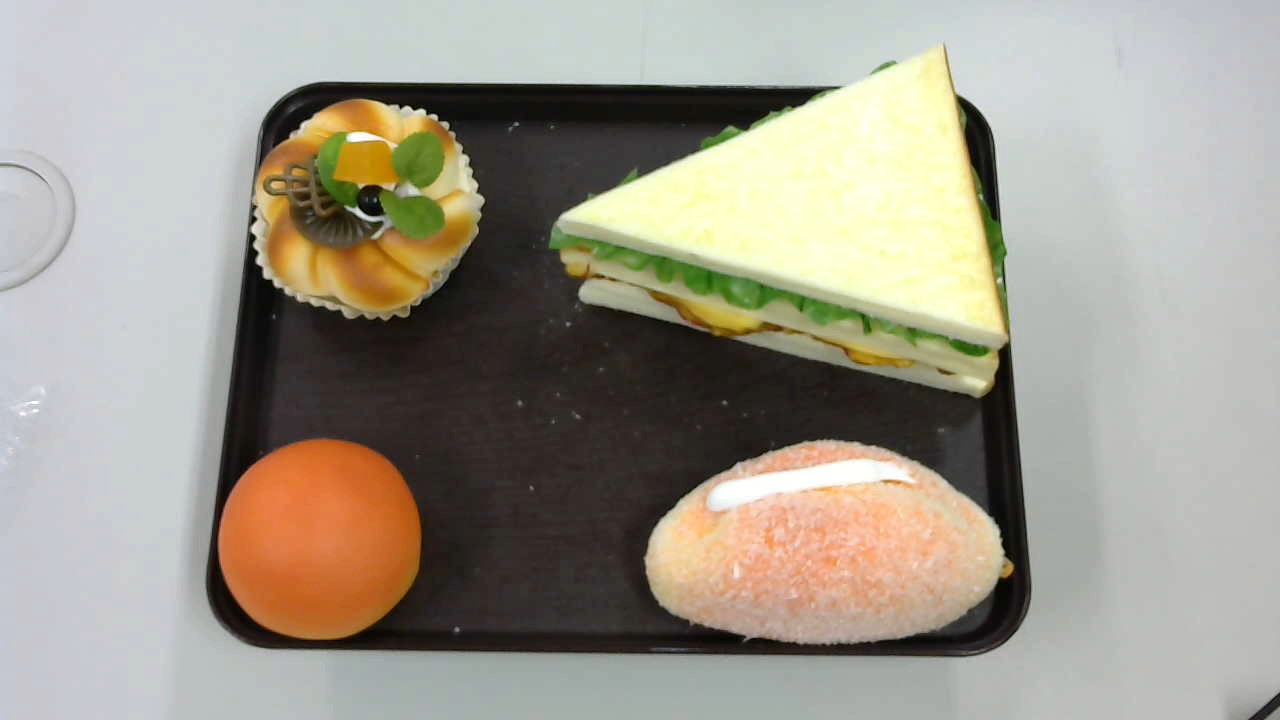bun: (217, 437, 421, 639)
coconut: (643, 438, 1015, 647)
fruit tart: (248, 97, 487, 324)
sandwich: (550, 42, 1012, 401)
